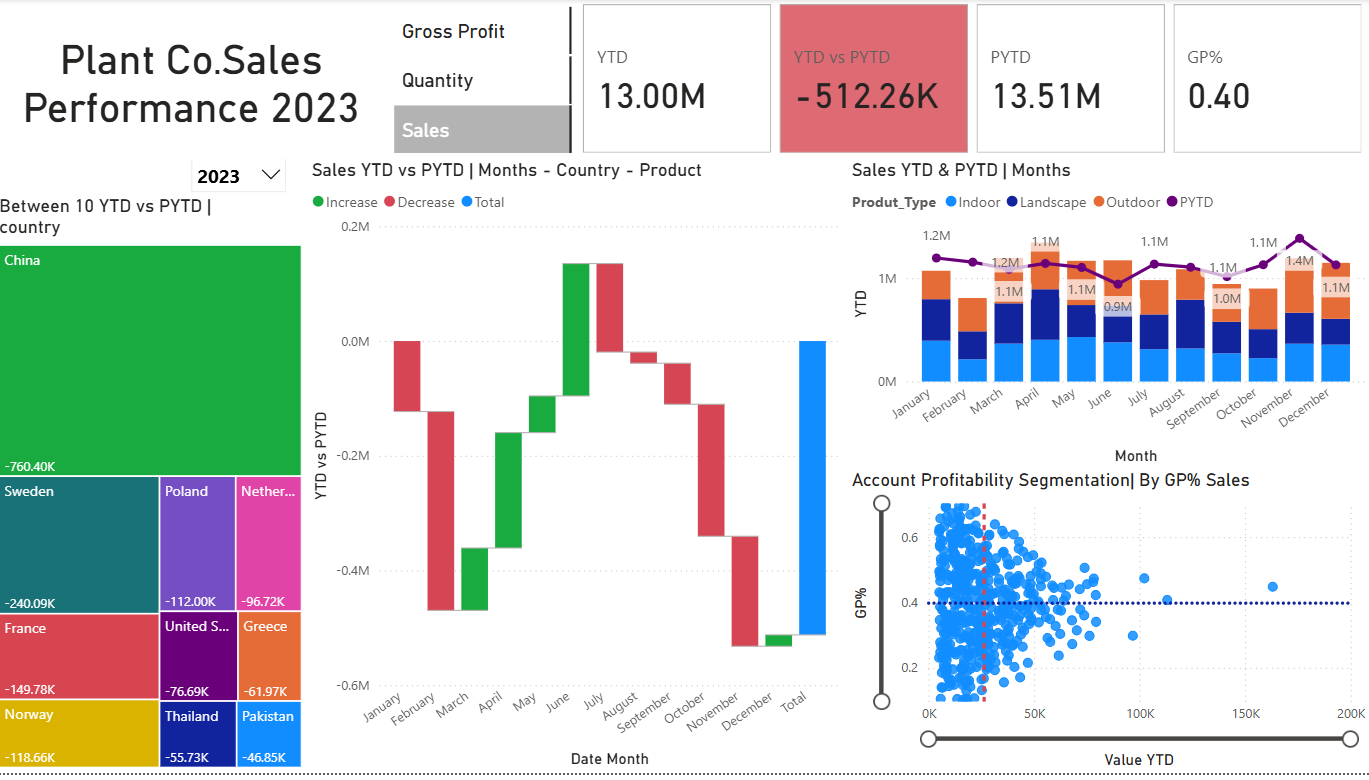

The page's visual inventory and layout, read from the dashboard file:
{"tool":"powerbi","page":{"name":"Page 1","canvas":[1280,720],"ordinal":0},"visuals":[{"type":"cardVisual","fields":{"Data":["_Measures.S_YTD","_Measures.YTD vs PYTD","_Measures.S_PYTD","_Measures.GP%"]},"box":[542.5,0,737.5,148.8],"z":0},{"type":"slicer","title":"YTD","fields":{"Values":["Dim_Date.Date.Variation.Date Hierarchy.Year"]},"box":[173.8,137.5,108.8,45],"z":1000},{"type":"advancedSlicerVisual","fields":{"Values":["Slc_Values.Values"]},"box":[367.5,2.5,175,146.2],"z":2000},{"type":"treemap","title":"Between 10 YTD vs PYTD | country","fields":{"Values":["_Measures.YTD vs PYTD"],"Group":["Dim_Account.country"]},"box":[0,182.5,291.2,537.5],"z":3000},{"type":"waterfallChart","fields":{"Y":["_Measures.YTD vs PYTD"],"Category":["Dim_Date.Date.Variation.Date Hierarchy.Month","Dim_Account.country","Dim_Product.Produt_Type","Dim_Product.Product_Name"]},"box":[291.2,148.8,501.2,571.2],"z":4000},{"type":"lineStackedColumnComboChart","fields":{"Y":["_Measures.S_YTD"],"Y2":["_Measures.S_PYTD"],"Category":["Dim_Date.Date.Variation.Date Hierarchy.Quarter","Dim_Date.Date.Variation.Date Hierarchy.Month"],"Series":["Dim_Product.Produt_Type"]},"box":[792.5,148.8,487.5,288.8],"z":5000},{"type":"scatterChart","fields":{"X":["_Measures.S_YTD"],"Y":["_Measures.GP%"],"Category":["Dim_Account.Account"]},"box":[792.5,437.5,487.5,282.5],"z":6000},{"type":"card","fields":{"Values":["_Measures._Report title"]},"box":[0,0,367.5,148.8],"z":7000}]}

Visuals, with their boxes in screenshot pixels (x1, y1, x2, y2), scaled from the page's 1280x720 canvas onto the 1369x780 screenshot:
cardVisual - _Measures.S_YTD x _Measures.YTD vs PYTD: (left=580, top=0, right=1368, bottom=161)
"YTD" slicer: (left=186, top=149, right=302, bottom=198)
advancedSlicerVisual - Slc_Values.Values: (left=393, top=3, right=580, bottom=161)
"Between 10 YTD vs PYTD | country" treemap: (left=0, top=198, right=311, bottom=779)
waterfallChart - _Measures.YTD vs PYTD x Dim_Date.Date.Variation.Date Hierarchy.Month: (left=311, top=161, right=847, bottom=779)
lineStackedColumnComboChart - _Measures.S_YTD x _Measures.S_PYTD: (left=848, top=161, right=1368, bottom=474)
scatterChart - _Measures.S_YTD x _Measures.GP%: (left=848, top=474, right=1368, bottom=779)
card - _Measures._Report title: (left=0, top=0, right=393, bottom=161)
